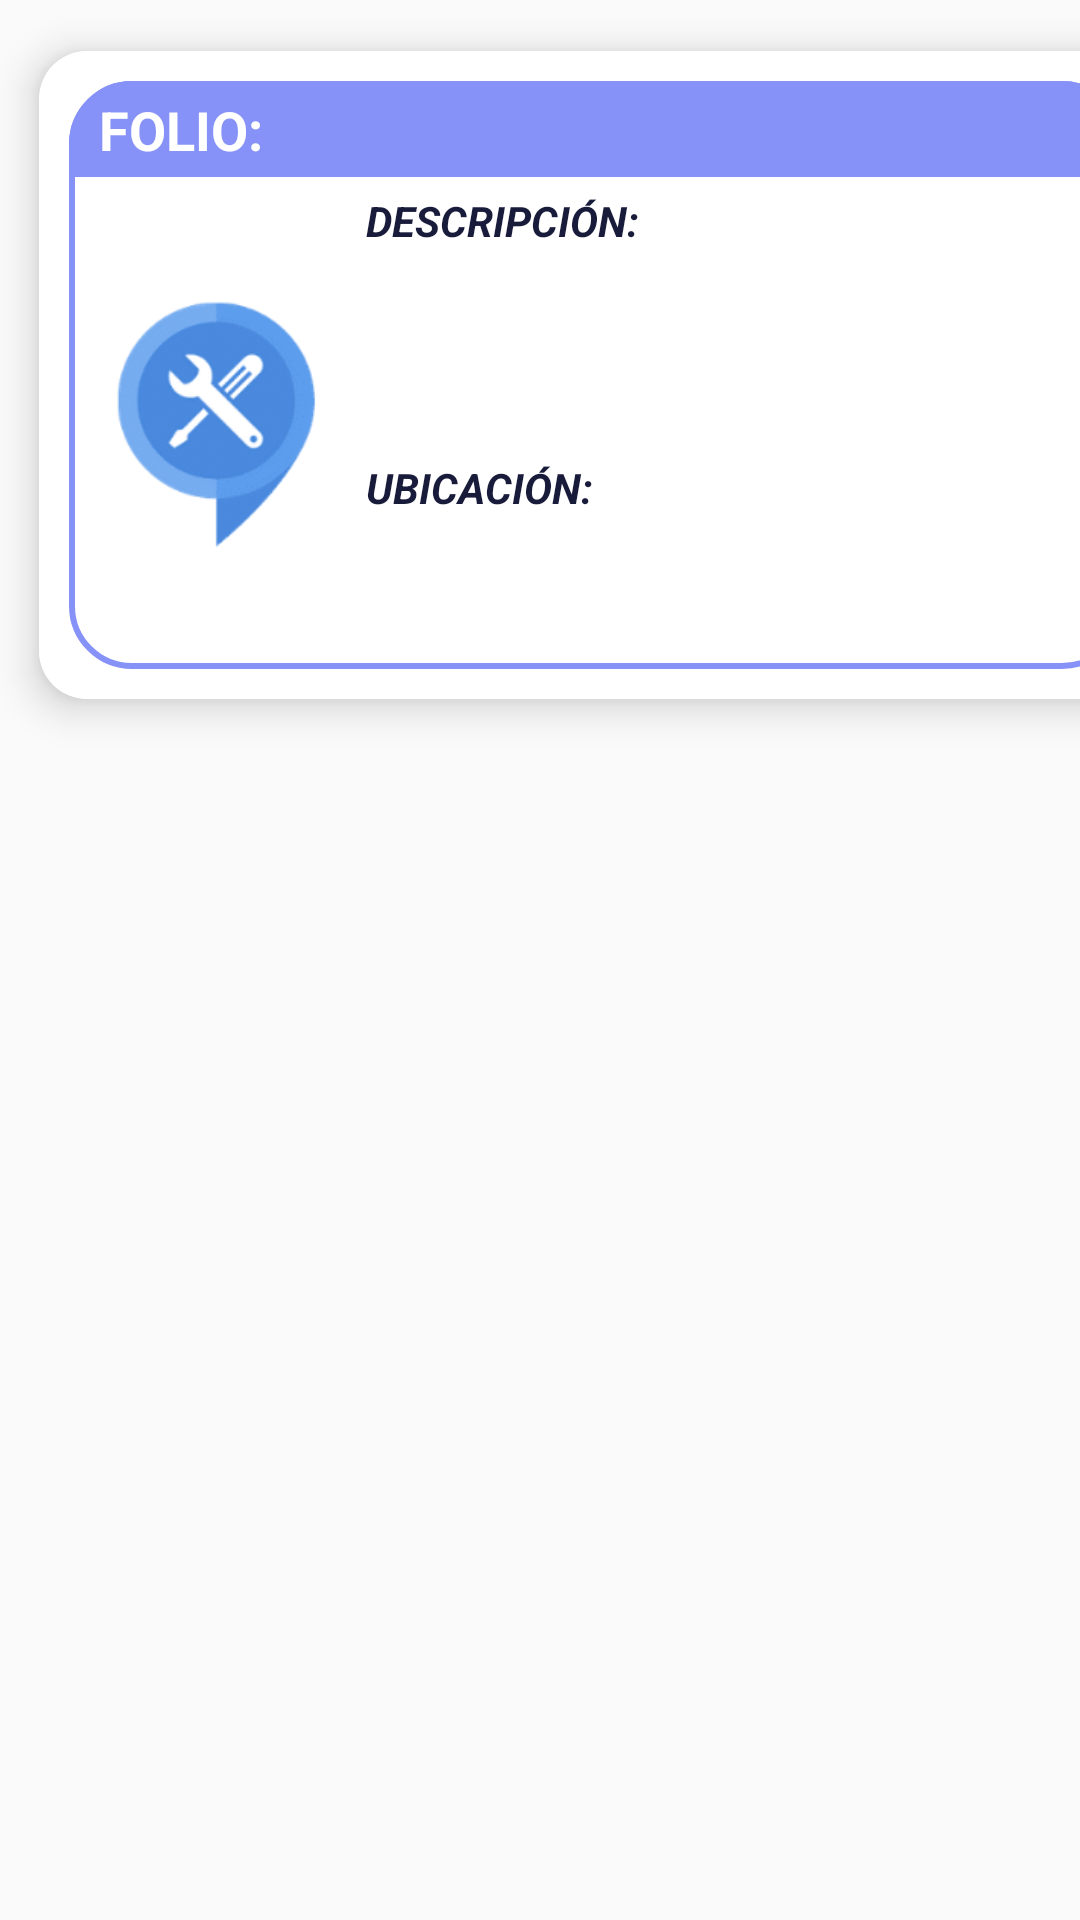

Icons on this 1080x1920 Android screen, each with its box as box=[x1, y1, x2, y2]:
notreaparar: box=[117, 302, 315, 547]
